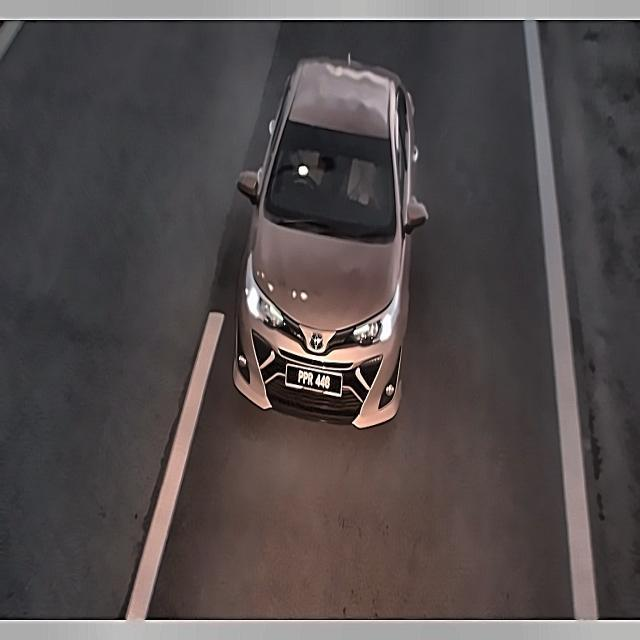car: (278, 356, 352, 403)
